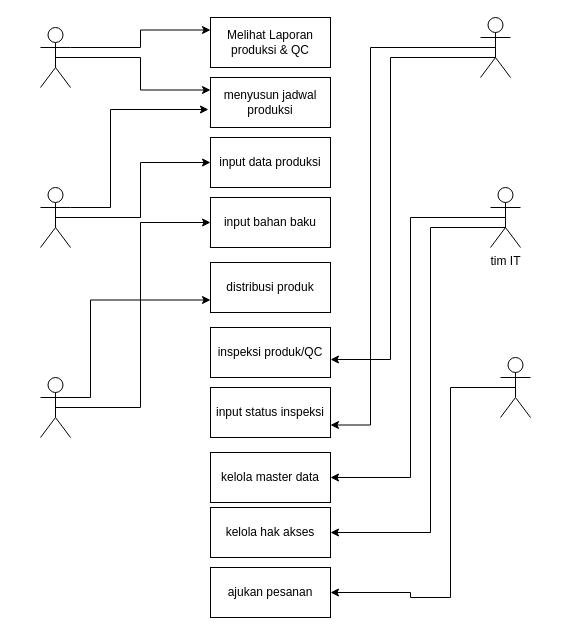
Image size: 583x635. Some labels were removed from this diagram. Here are the shapes that lost their labels. From the top down, the box of each, then its label:
(40, 26, 70, 88): pemilik usaha
(480, 16, 510, 78): Tim QC
(40, 186, 70, 248): karyawan
(40, 376, 70, 438): admin gudang
(500, 356, 530, 418): ajukan pemesanan
